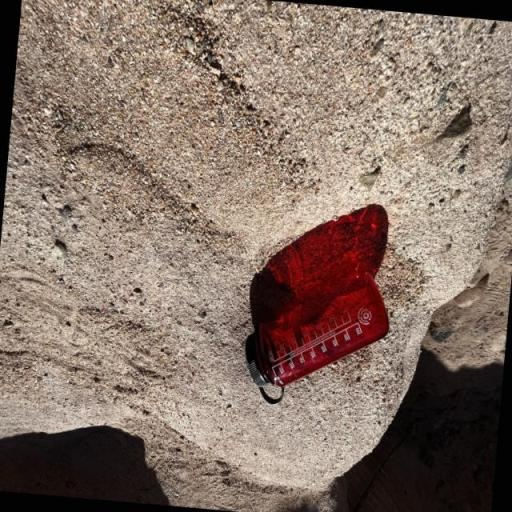bottle: (235, 245, 399, 412)
